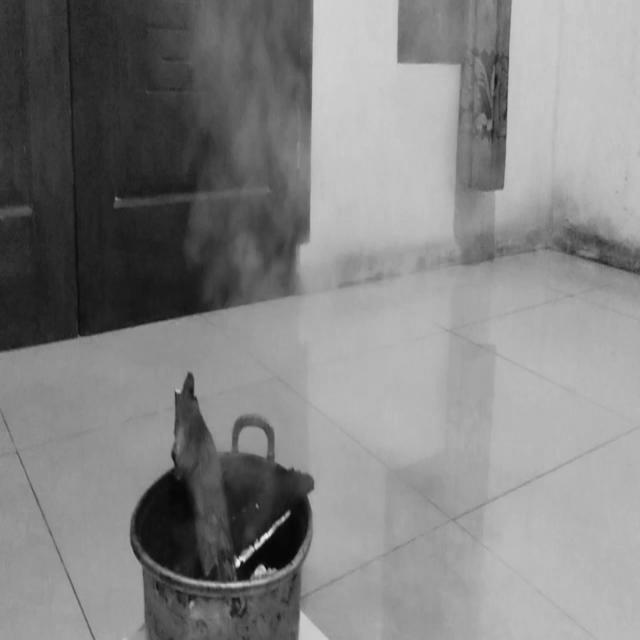fire: (200, 20, 494, 276)
